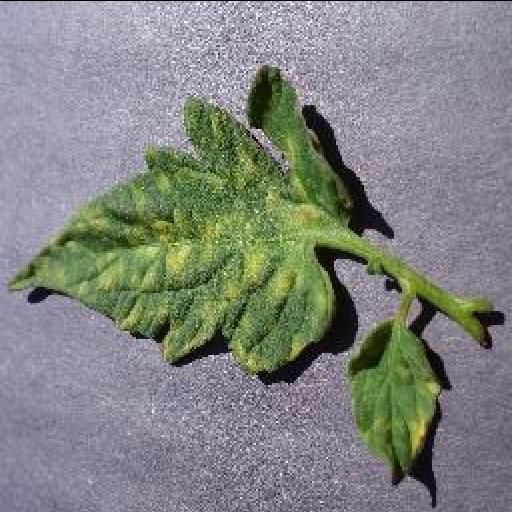disease_tomato: (6, 64, 356, 370), (350, 317, 440, 482)
